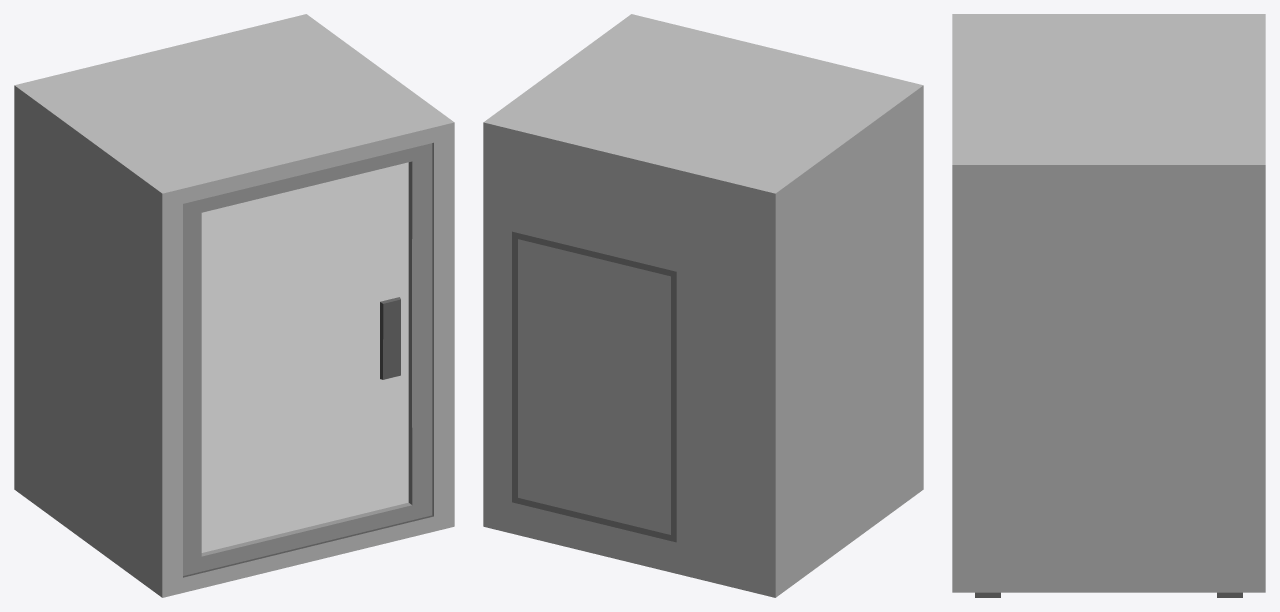
File: Mini Fridge #1.fbx
3 views of the same model, side by side, from view 1: azimuth 30°, elevation 25°; view 2: azimuth 150°, elevation 25°; view 3: azimuth 270°, elevation 25° (orthographic). The views are drawn at different scales.
Parts seen in each view (by area): view 1: Mini Fridge #1; view 2: Mini Fridge #1; view 3: Mini Fridge #1.
Part boxes in pixels (x1,y1,x2,y2): Mini Fridge #1: (14, 14, 454, 597); Mini Fridge #1: (483, 14, 923, 597); Mini Fridge #1: (952, 14, 1265, 597).
Bounding box in the file's own units: 83.31 × 113 × 73.16.
3 materials, 2 textured.
